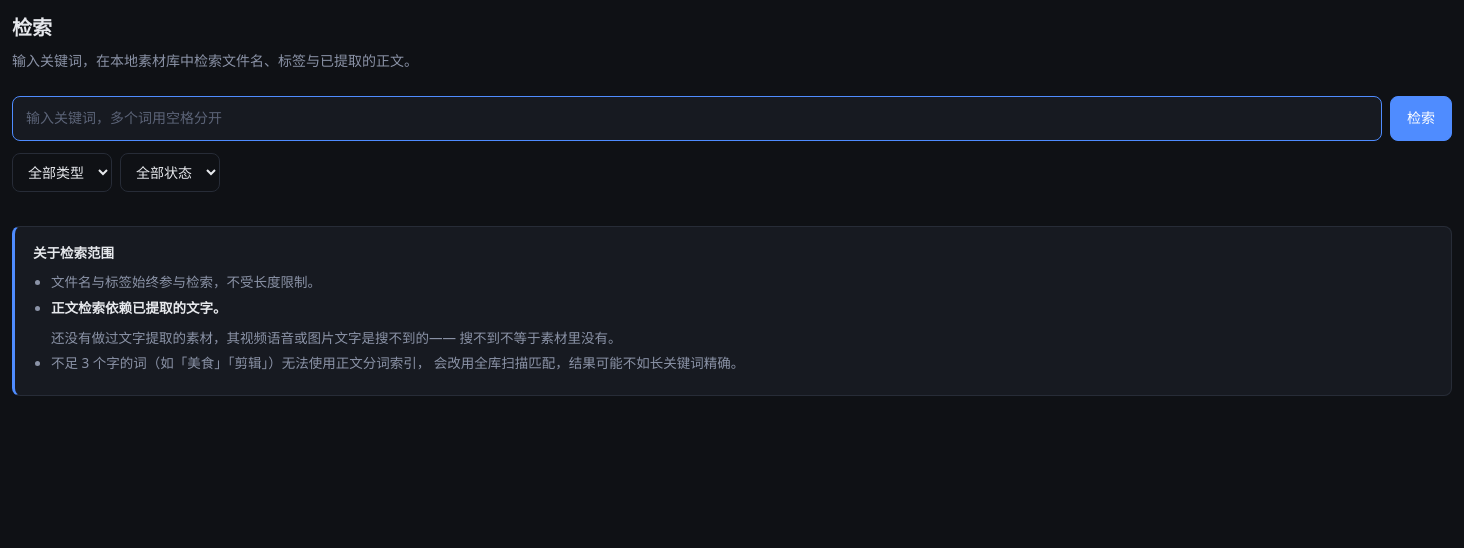
检索页 › 筛选条件可见、可清除
The width and height of the screenshot is (1464, 548).
Expected: the button "清除筛选" is not shown
Step 1. Type "火锅店" into the search field → (697,119), box [12, 96, 1382, 141]
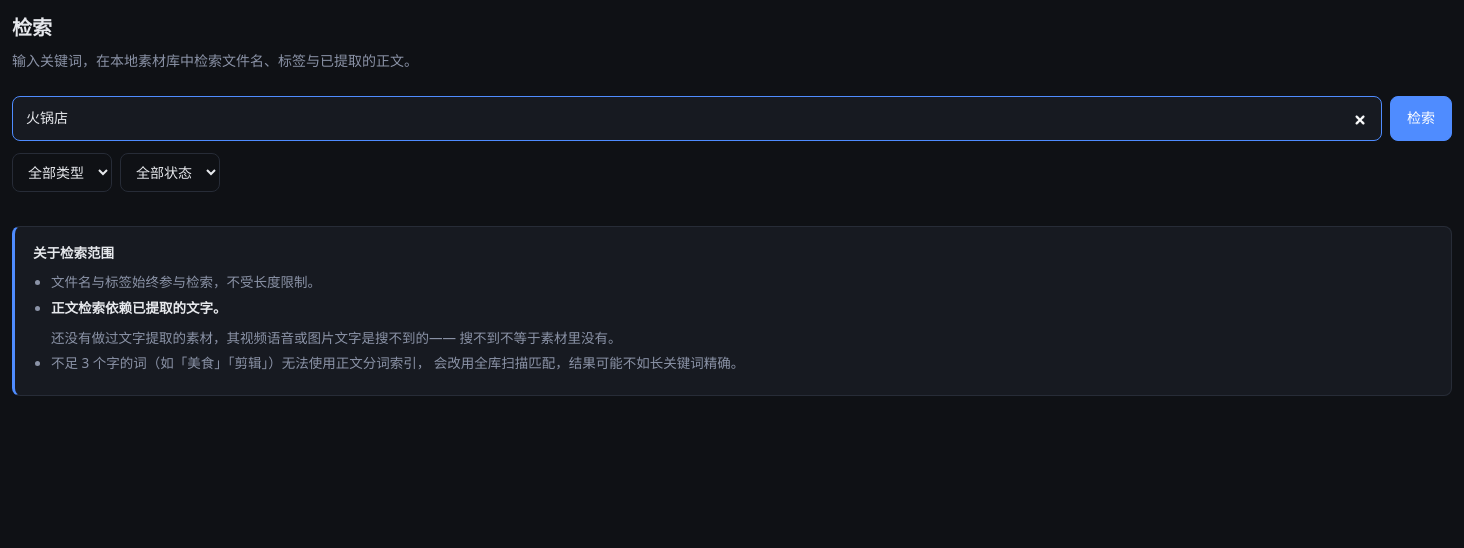
Step 2. Click the button "检索" → (1421,119), box [1390, 96, 1452, 141]
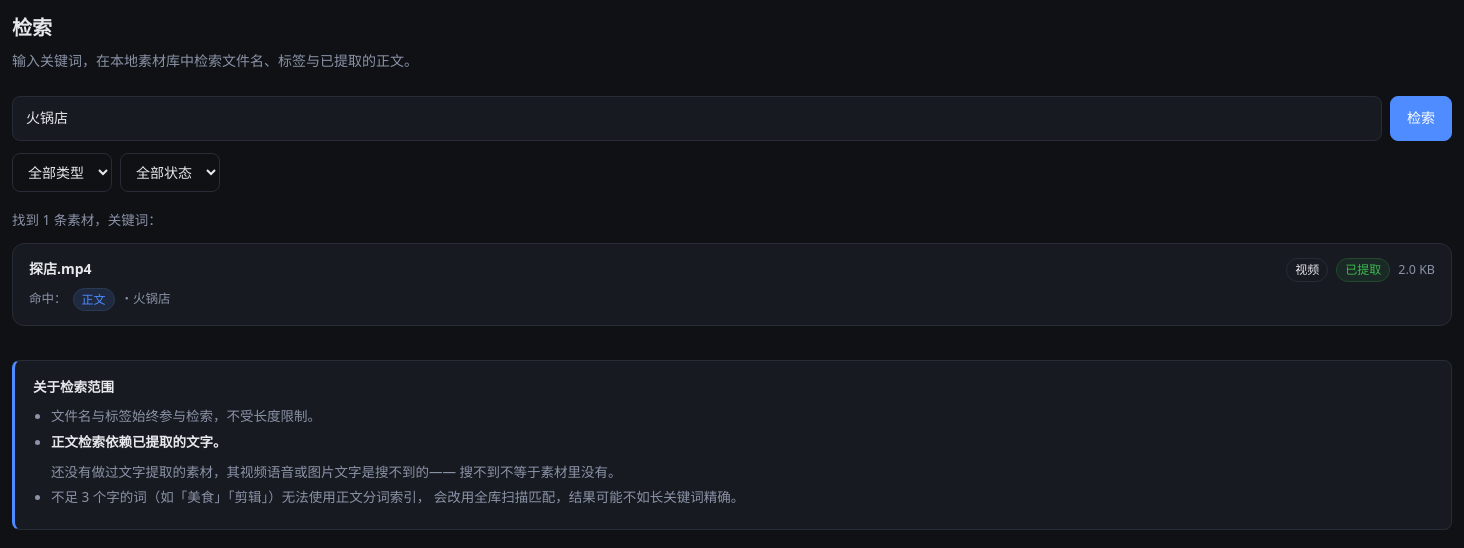
Expected: the text "探店.mp4" is shown, [29, 258, 92, 281]
Step 3. Select "视频" in the 1st dropdown showing "全部类型" → (62,172), box [12, 153, 112, 192]
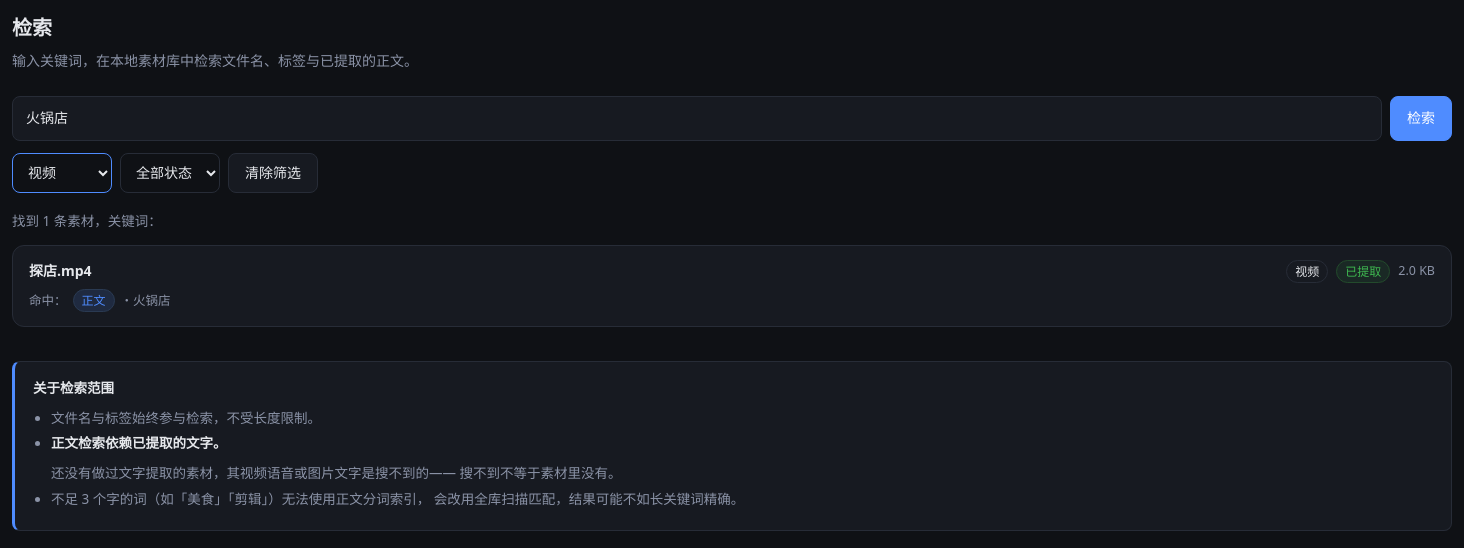
Step 4. Click the button "清除筛选" → (273,173), box [228, 153, 318, 193]
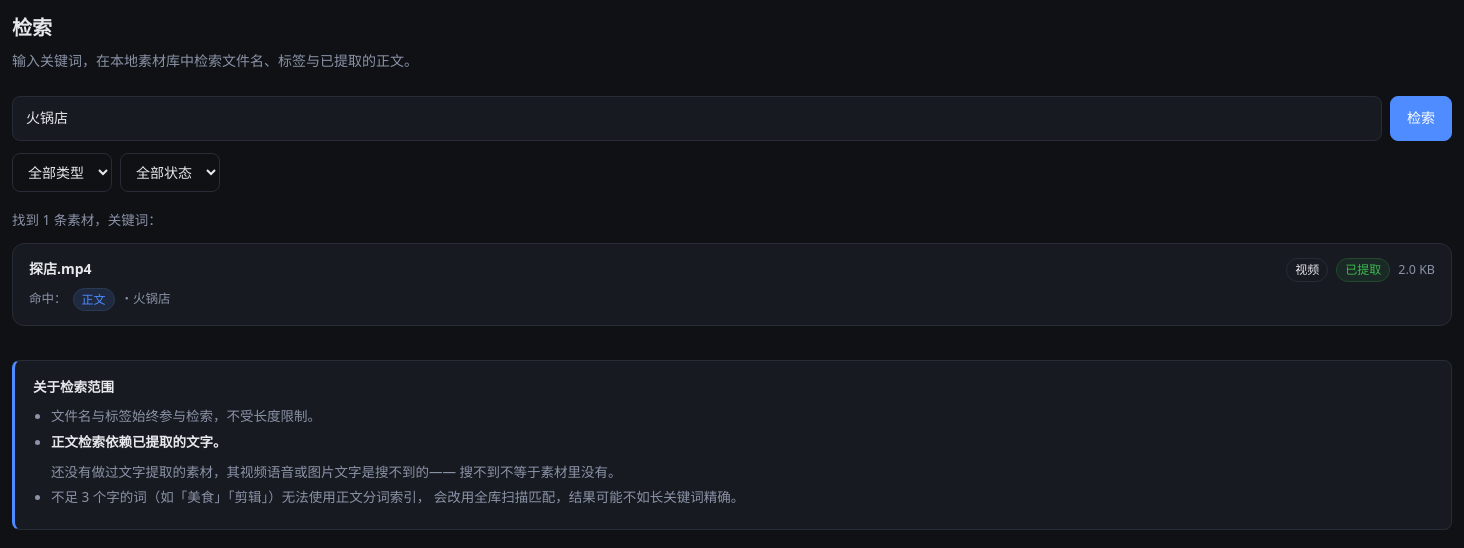
Expected: the button "清除筛选" is gone
